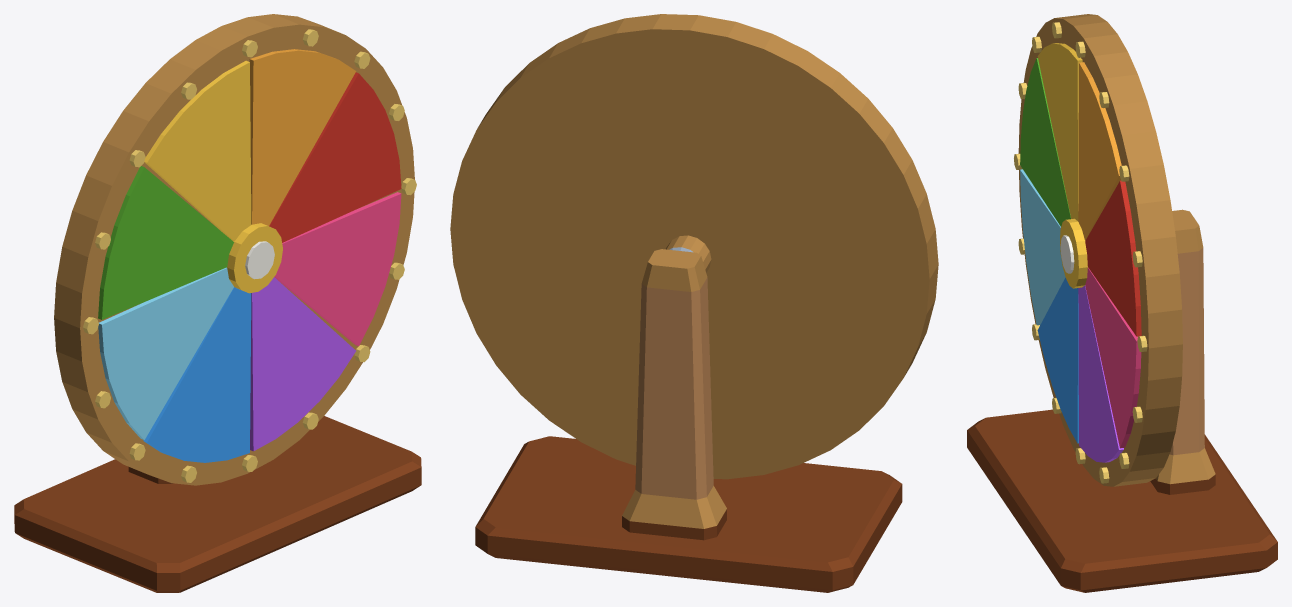
File: PrizeWheel.glb
The picture shows the model from 3 angles, left to right: view 1: azimuth 30°, elevation 25°; view 2: azimuth 150°, elevation 25°; view 3: azimuth 270°, elevation 25°; orthographic projection. The views are drawn at different scales.
Parts seen in each view (by area): view 1: PrizeWheel; view 2: PrizeWheel; view 3: PrizeWheel.
Boxes of the visible parts, x1,y1,x2,y2 form: PrizeWheel: [14, 14, 421, 592]; PrizeWheel: [450, 14, 938, 592]; PrizeWheel: [967, 14, 1277, 592].
Size of the model in its own units: 1.61 by 1.82 by 1.08.
Materials: 1 (1 with a texture image).
